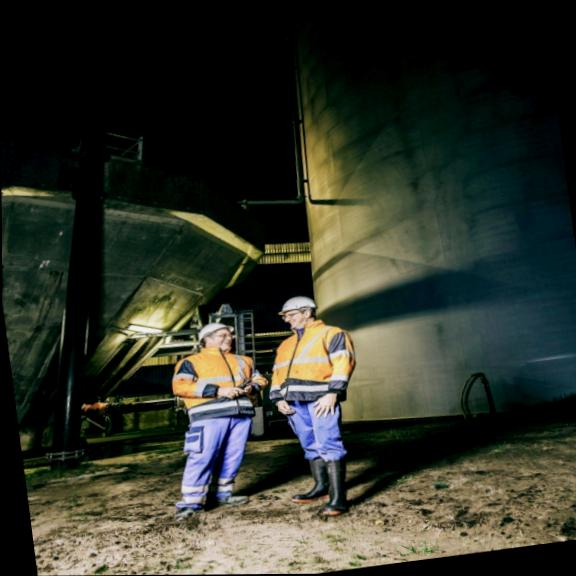safety_vest: (259, 319, 351, 415), (166, 344, 259, 429)
